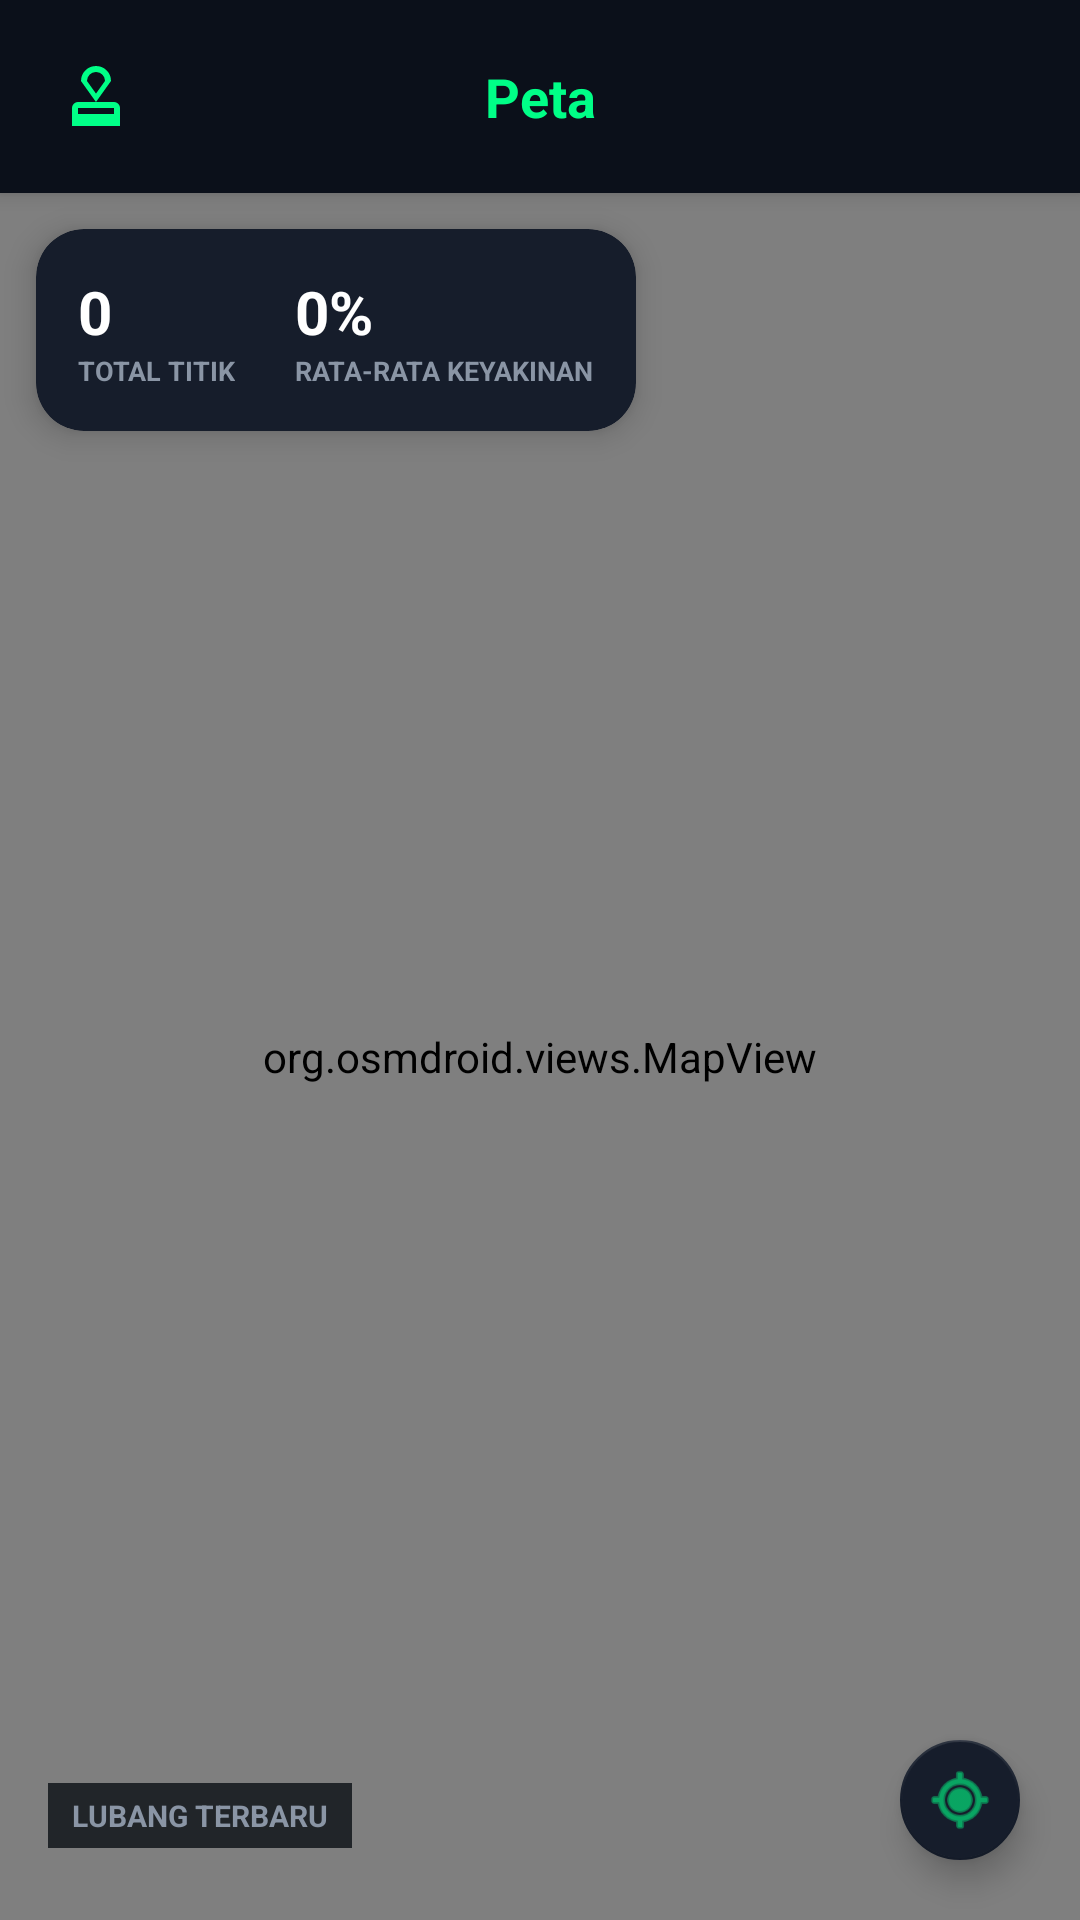

Point at icon controls on the screen. Image size 1080 × 1920, points as (x=x, y=y).
mylocation: (x=960, y=1800)
